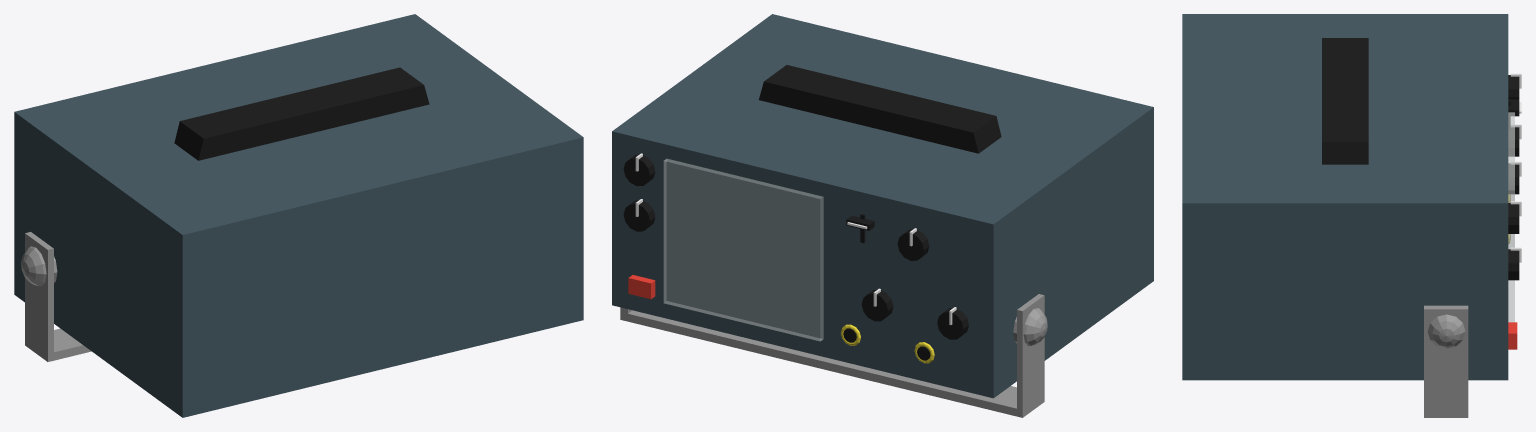
Rendered from model-triangulated.obj.
The picture shows the model from 3 angles, left to right: view 1: azimuth 30°, elevation 25°; view 2: azimuth 150°, elevation 25°; view 3: azimuth 270°, elevation 25°; orthographic projection. The views are drawn at different scales.
Visible parts, largest first — view 1: group1206346070, group1614062453, group904415895, group895526453, group1068289800; view 2: group1206346070, group1194422086, group1614062453, group1068289800, group904415895, group895526453, group84421629, group717484583, group323120931, group530683298, group1552930871, group320037650; view 3: group1206346070, group1614062453, group926282457, group1194422086, group1316495928, group323120931, group717484583, group530683298, group84421629.
Part boxes in pixels (x1,y1,x2,y2): group1206346070: (14,14,583,417); group1614062453: (174,67,429,160); group904415895: (25,232,53,361); group895526453: (21,246,57,286); group1068289800: (54,328,91,360); group1206346070: (612,14,1153,398); group1194422086: (663,159,823,341); group1614062453: (759,65,1001,153); group1068289800: (628,310,1016,416); group904415895: (1017,294,1044,417); group895526453: (1013,308,1047,346); group84421629: (937,308,968,339); group717484583: (623,154,655,186); group323120931: (623,200,655,231); group530683298: (861,290,893,321); group1552930871: (897,229,929,260); group320037650: (628,275,655,299); group1206346070: (1182,14,1508,380); group1614062453: (1322,38,1368,164); group926282457: (1424,305,1468,417); group1194422086: (1508,112,1514,322); group1316495928: (1427,314,1465,348); group323120931: (1508,249,1519,280); group717484583: (1508,203,1519,233); group530683298: (1508,163,1519,194); group84421629: (1508,127,1519,156).
Bounding box in the file's own units: 2.24 × 1.14 × 1.53.
